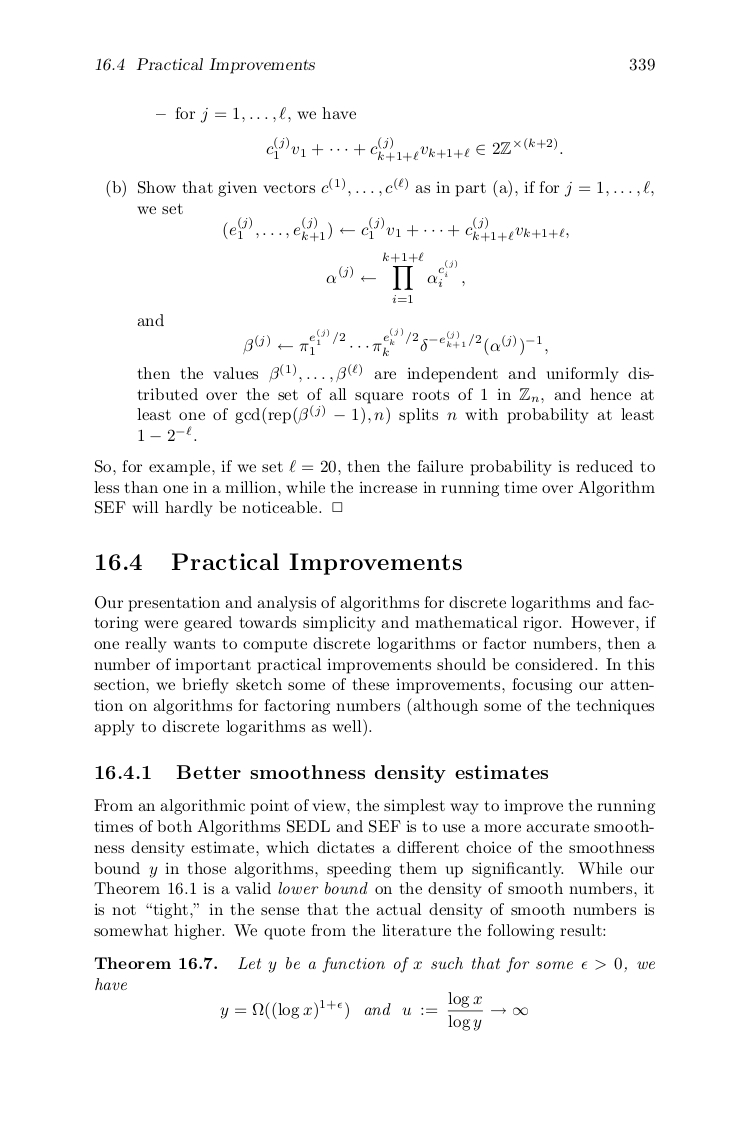formula: (220, 992, 527, 1030), (223, 216, 568, 242), (243, 328, 547, 355), (266, 136, 562, 162), (326, 252, 464, 302)
